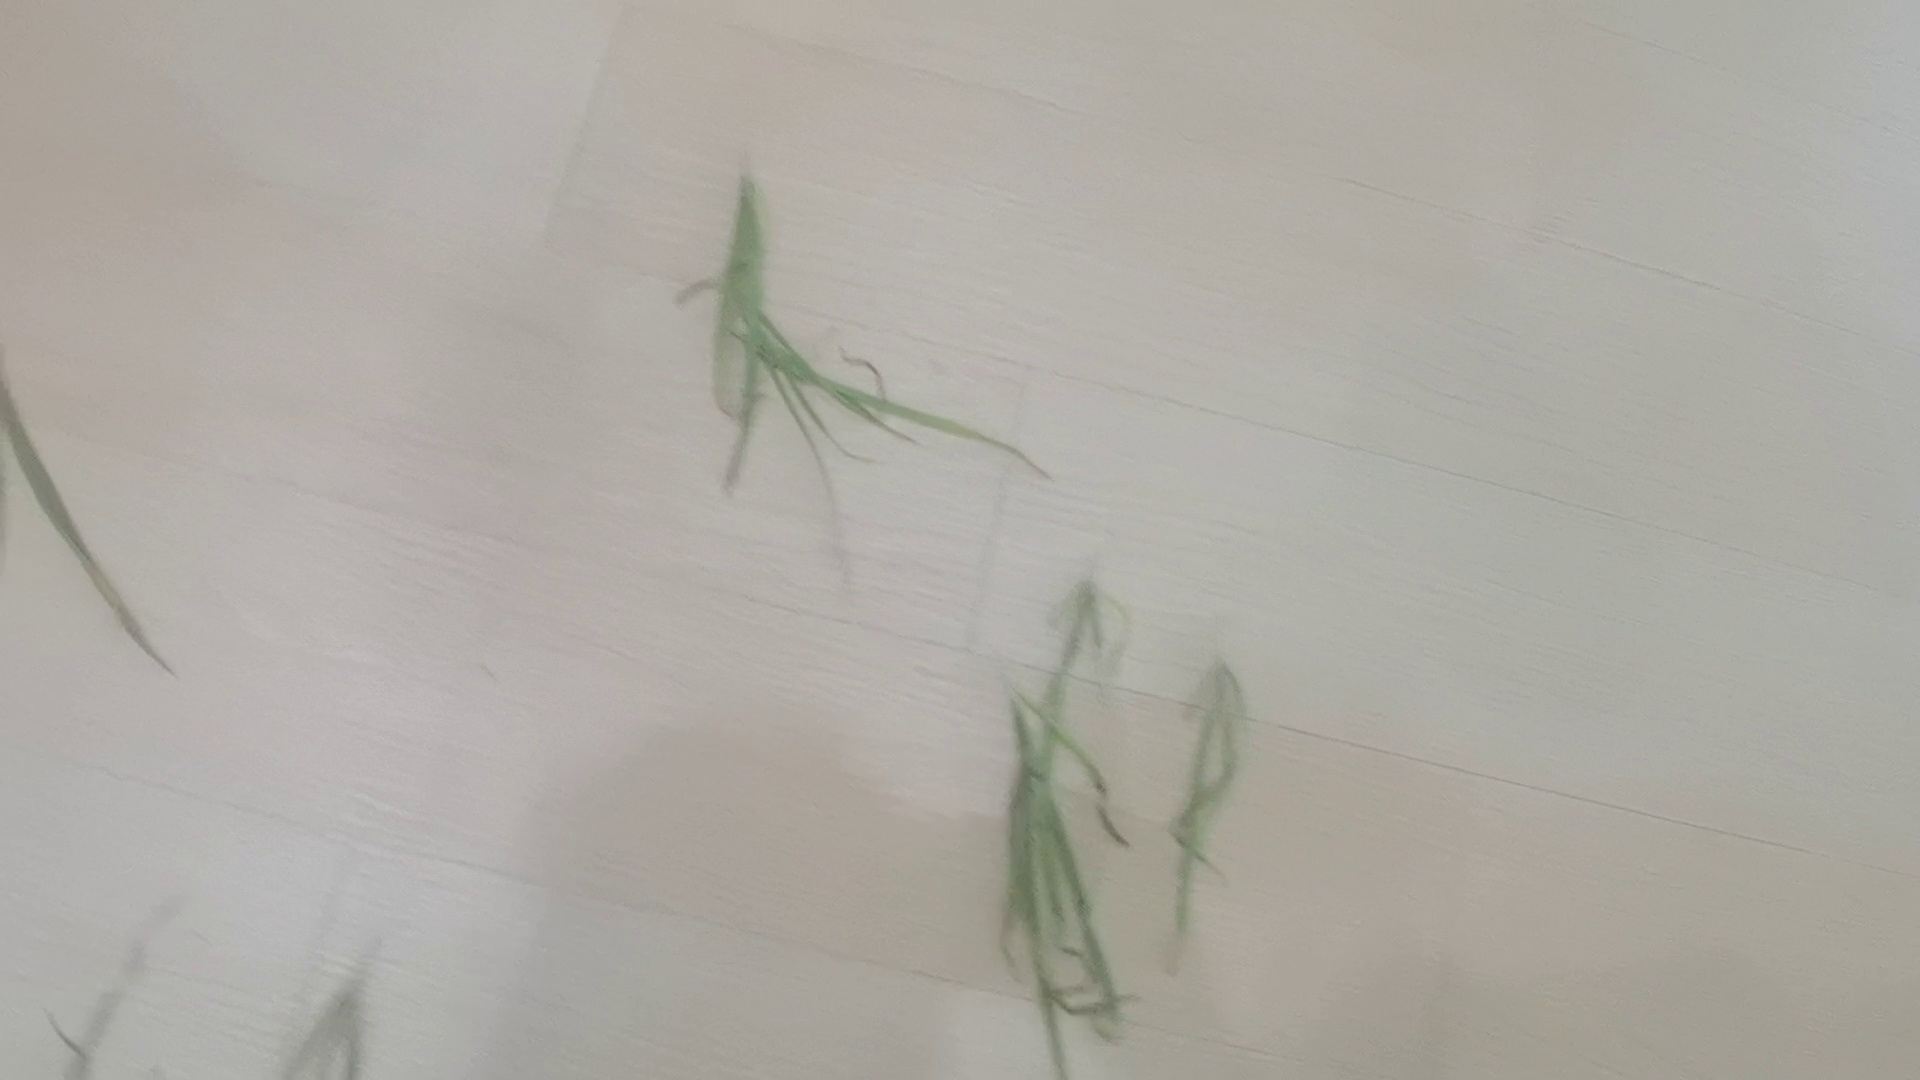chives: (952, 574, 1294, 1069), (674, 152, 1073, 509)
